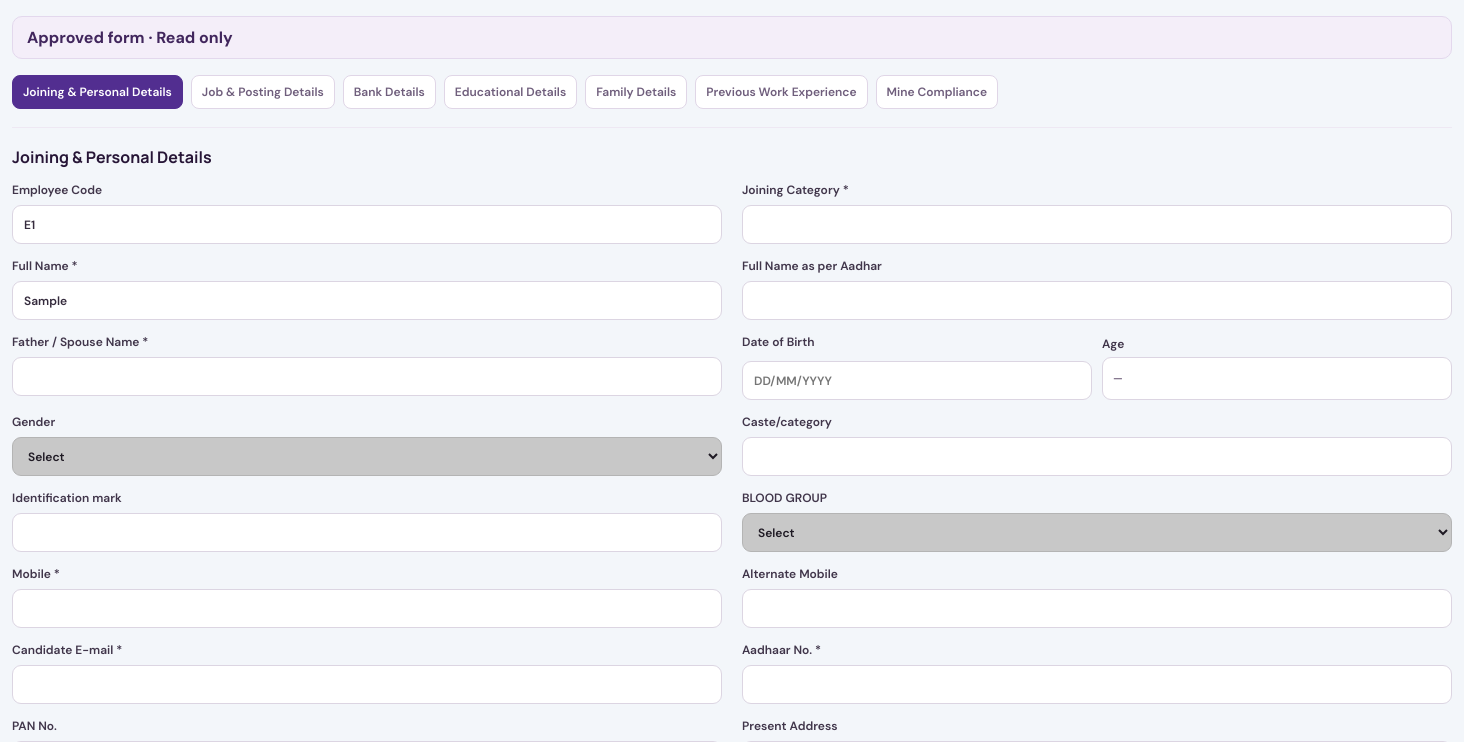
it: shows independent durations next to the dates in approved experience reviews
Click the button "Previous Work Experience". click: [781, 92]
box: [695,75,868,109]
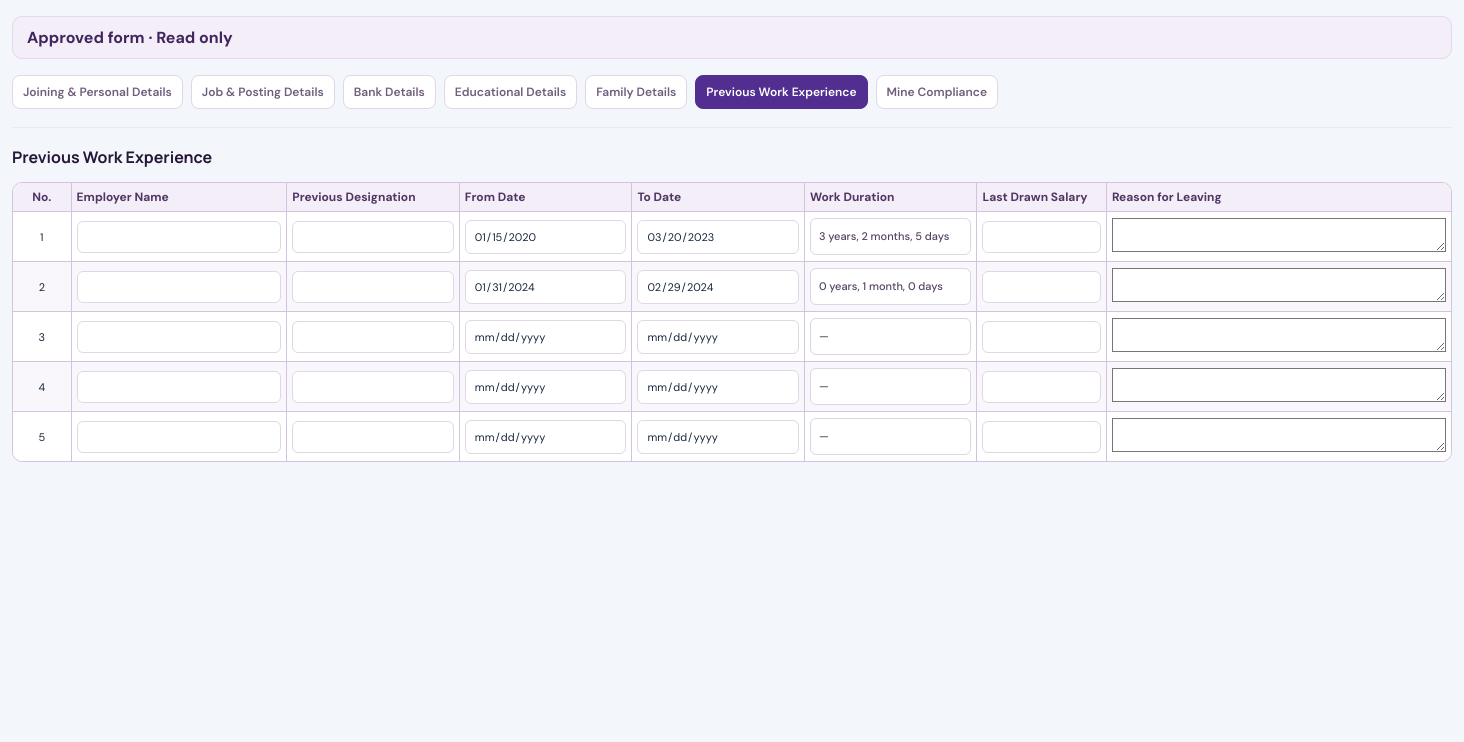
Check: the text named "Work Duration 1" reads "3 years, 2 months, 5 days", box [819,229,949,243]
Check: the text named "Work Duration 2" reads "0 years, 1 month, 0 days", box [819,279,943,293]
